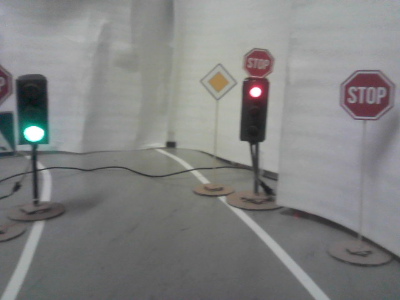priority_road: (200, 65, 235, 99)
stop: (340, 70, 394, 118), (245, 48, 271, 78)
trafficlight_green: (17, 79, 49, 144)
trafficlight_red: (241, 81, 266, 139)
